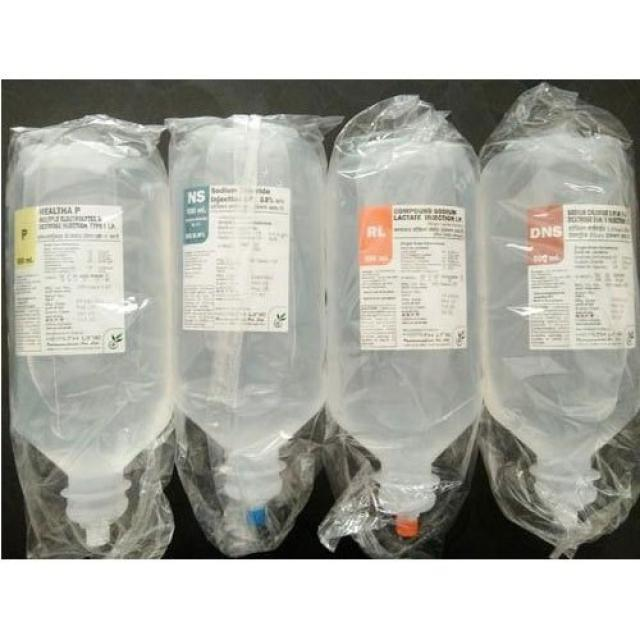B3: (332, 111, 490, 548), (485, 111, 640, 548), (7, 102, 164, 488), (172, 118, 328, 504)
